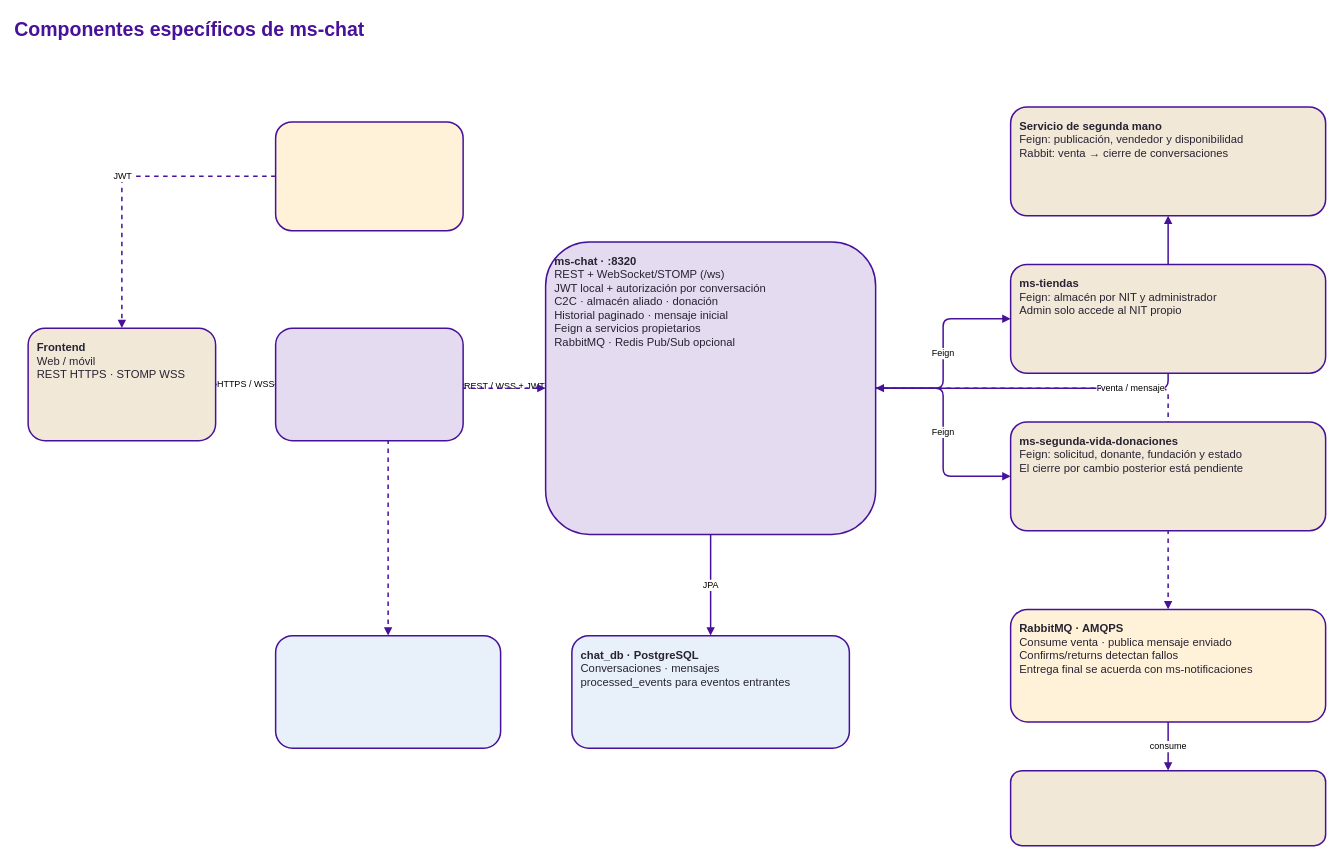
Some shapes in this 1339 by 859 pixel diagram are drawn without their labels. Each missing label, with the centre of its shape:
"API Gateway Enruta REST y WebSocket Reenvía JWT" belongs at pixel 369 384.
"ms-auth Emite JWT HS256 sub numérico · roles" belongs at pixel 369 176.
"ms-notificaciones Consume eventos de mensajes; validar resolución de almacén" belongs at pixel 1168 808.
"Redis · opcional Relay STOMP entre instancias No es almacenamiento del historial" belongs at pixel 387 691.
